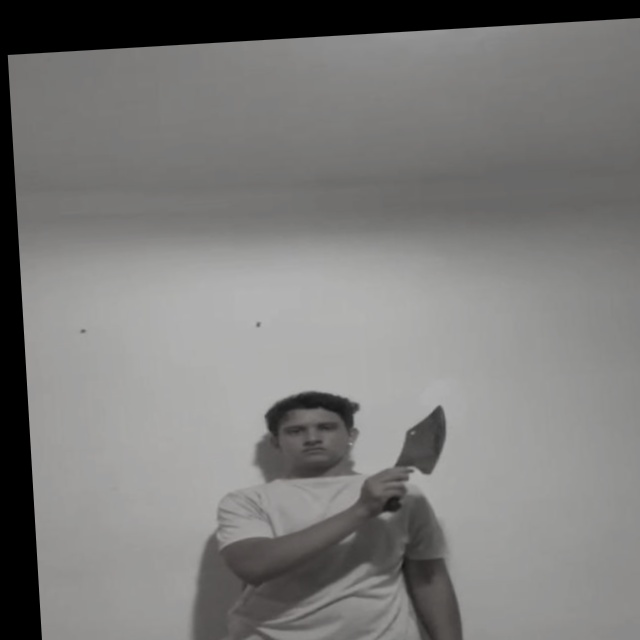Sharp-Object: (393, 400, 452, 470)
